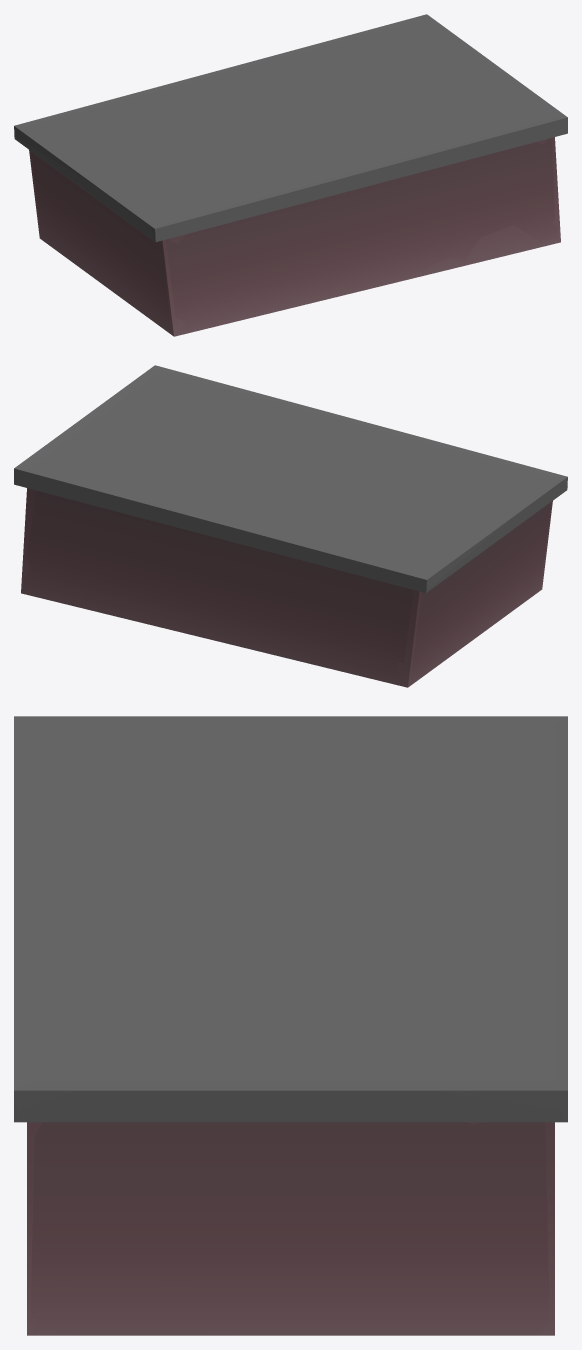
The model's file is SM_Building5.fbx.
3 renders of one model, top to bottom at view 1: azimuth 30°, elevation 25°; view 2: azimuth 150°, elevation 25°; view 3: azimuth 270°, elevation 25°, orthographic. The views are drawn at different scales.
Visible parts, largest first — view 1: Cube.047; view 2: Cube.047; view 3: Cube.047.
Part boxes in pixels (x1=…): Cube.047: x1=14, y1=14, x2=567, y2=336; Cube.047: x1=14, y1=365, x2=567, y2=687; Cube.047: x1=14, y1=716, x2=567, y2=1335.
Size of the model in its own units: 37.76 by 11.05 by 22.34.
